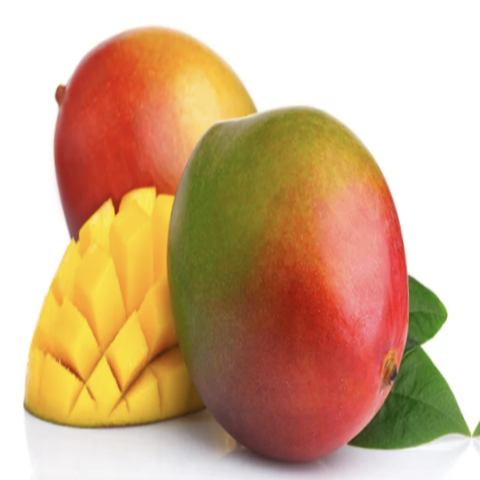mango: (147, 92, 437, 476), (24, 7, 292, 314)
